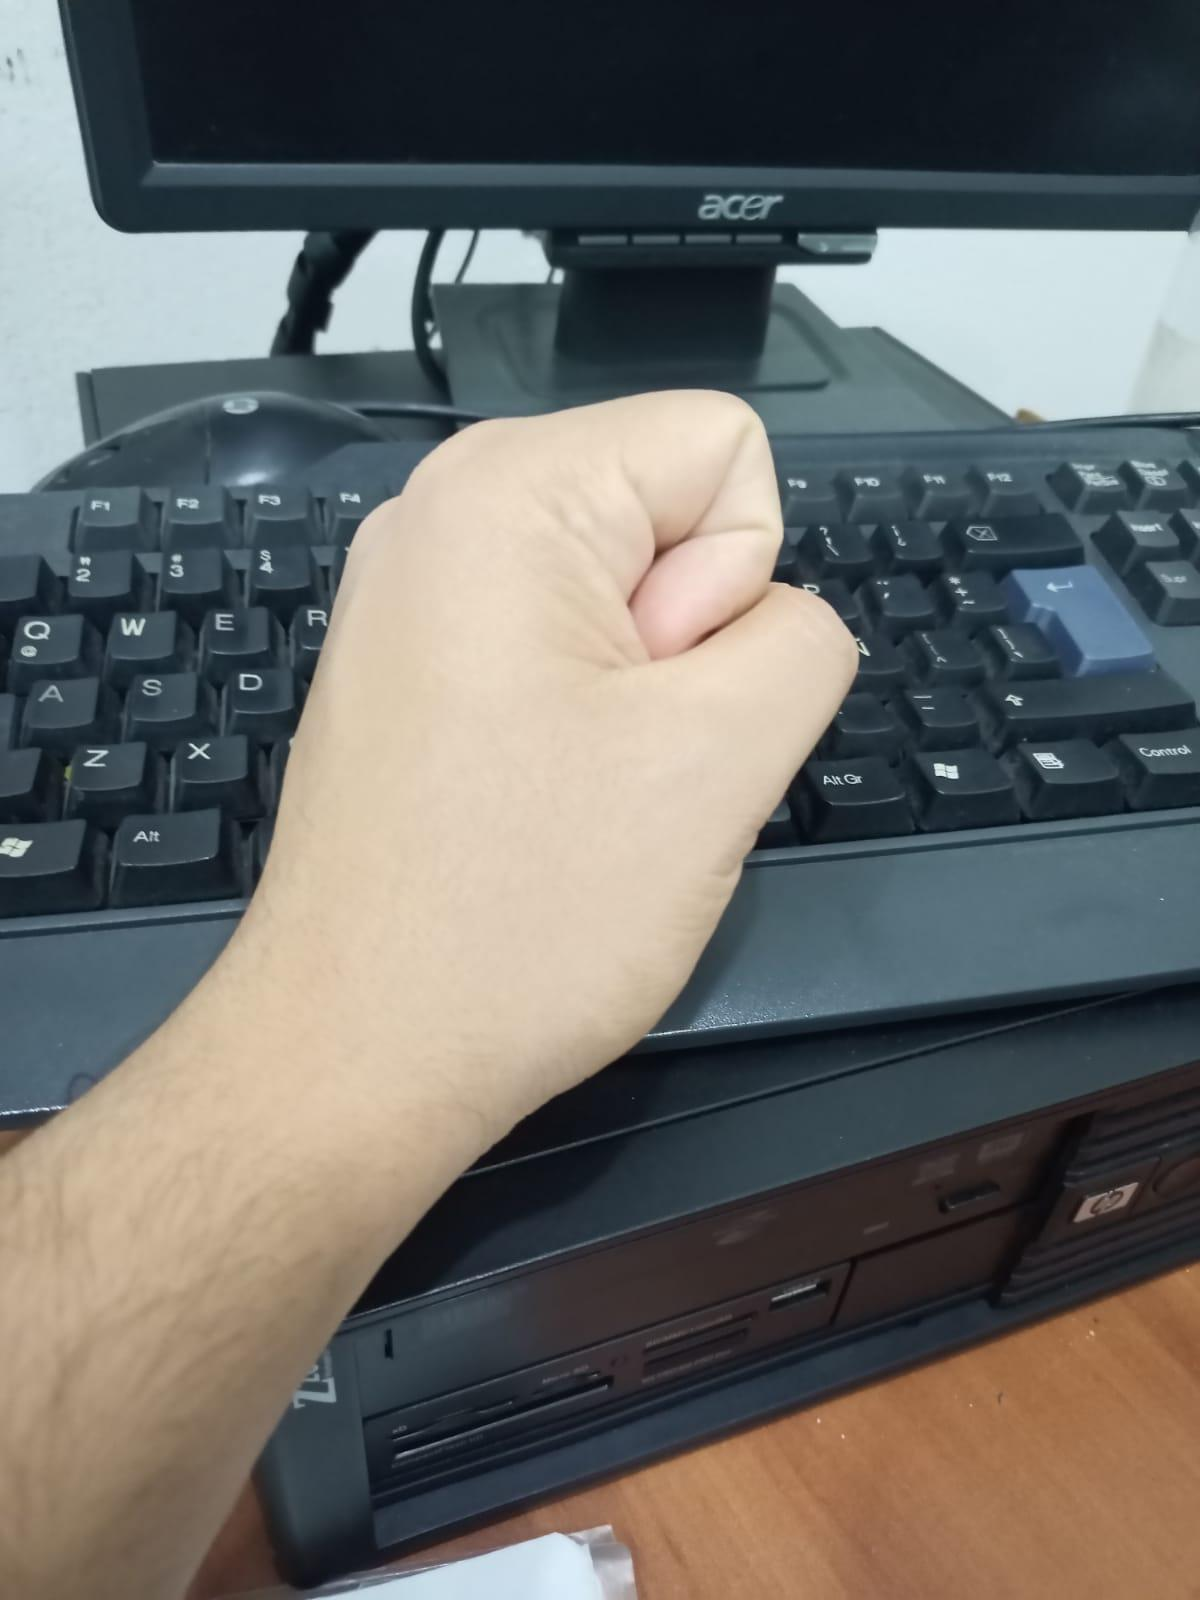Stone: (238, 340, 887, 1115)
